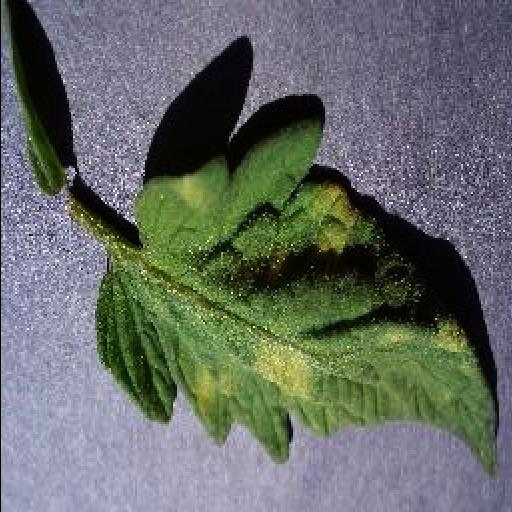disease_tomato: (94, 118, 502, 475)
